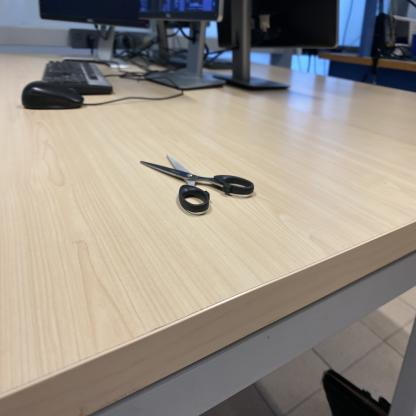scissors: (137, 150, 257, 221)
